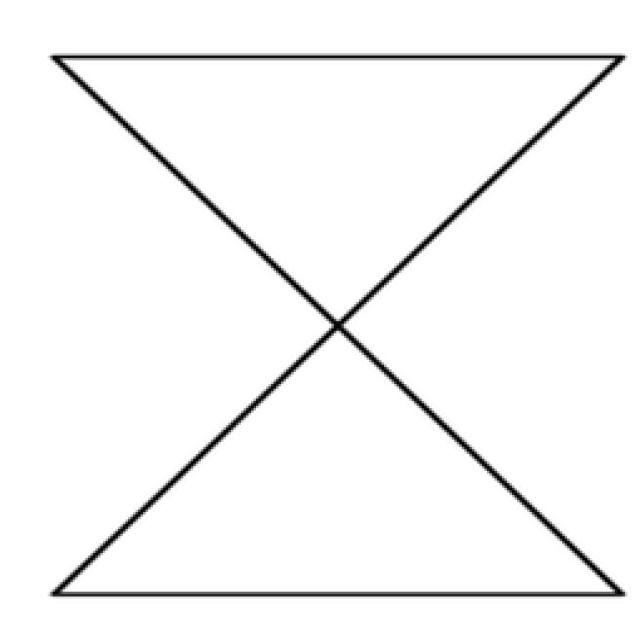Gate valve: (53, 325, 622, 597), (53, 57, 625, 321)
